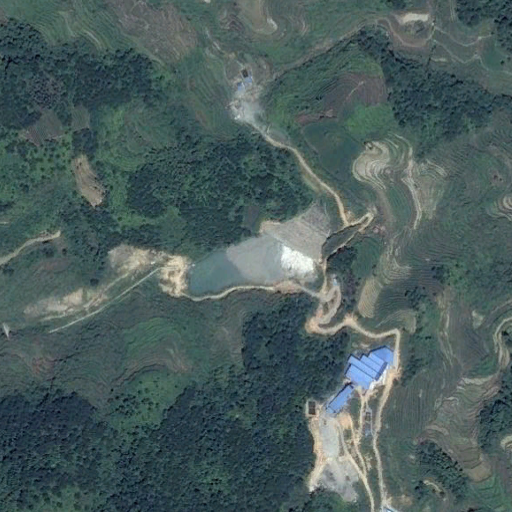tp: (185, 200, 333, 296)
